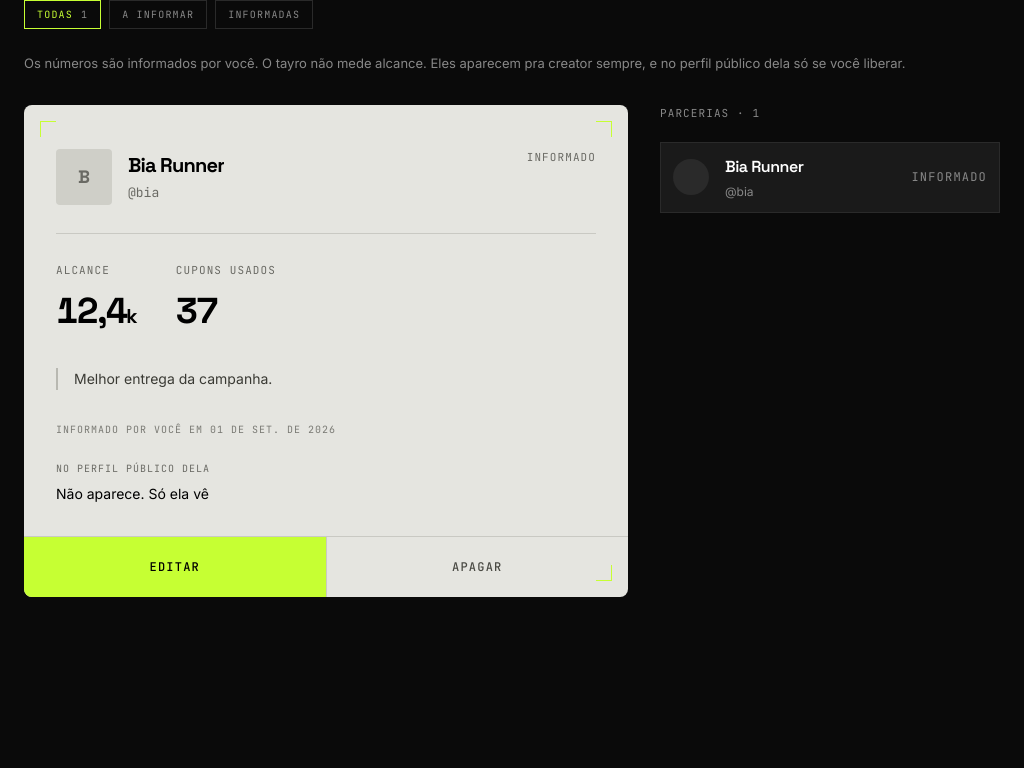
CampaignResultsTab › confirmação de apagar diz a consequência pra creator, não "tem certeza?"
This screenshot has width=1024, height=768.
Click the button "Apagar".
click(477, 567)  # box top-left (326, 537), bottom-right (628, 597)
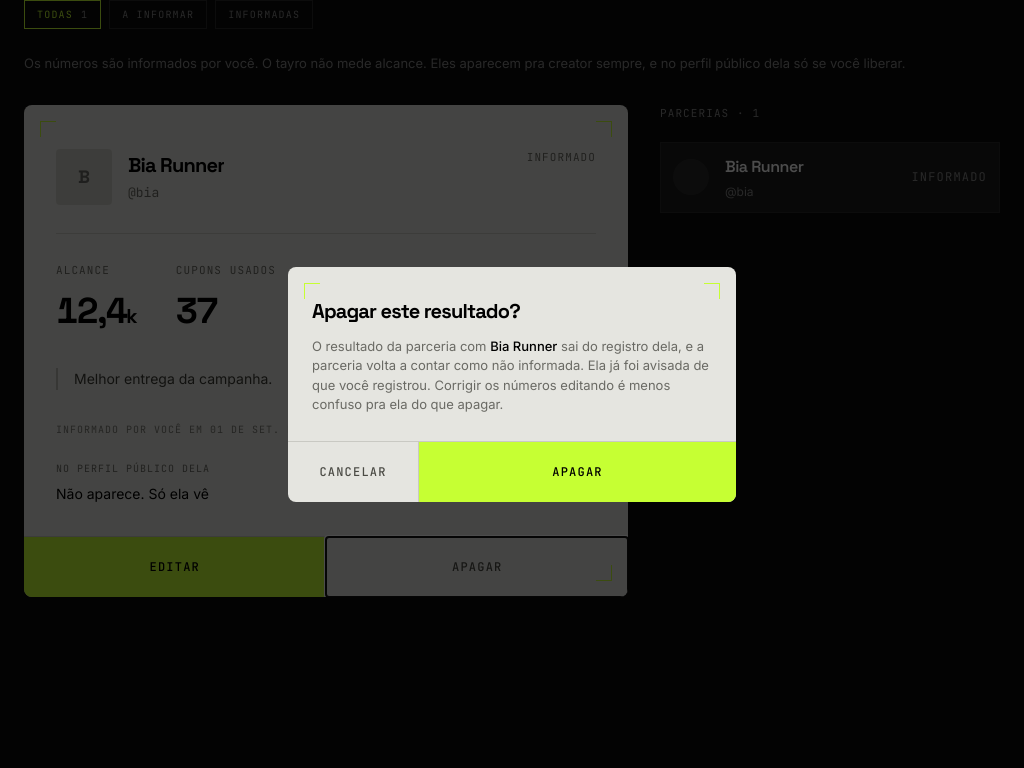
expect the text "sai do registro dela" is shown: met, box top-left (312, 338), bottom-right (704, 373)
expect the text "ela já foi avisada" is shown: met, box top-left (312, 357), bottom-right (709, 412)
